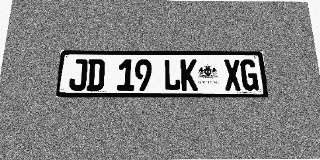1: (117, 59, 135, 91)
9: (135, 59, 152, 91)
D: (86, 59, 105, 91)
G: (240, 60, 259, 91)
J: (68, 59, 88, 91)
K: (180, 59, 198, 91)
L: (164, 59, 181, 91)
X: (223, 59, 242, 91)
